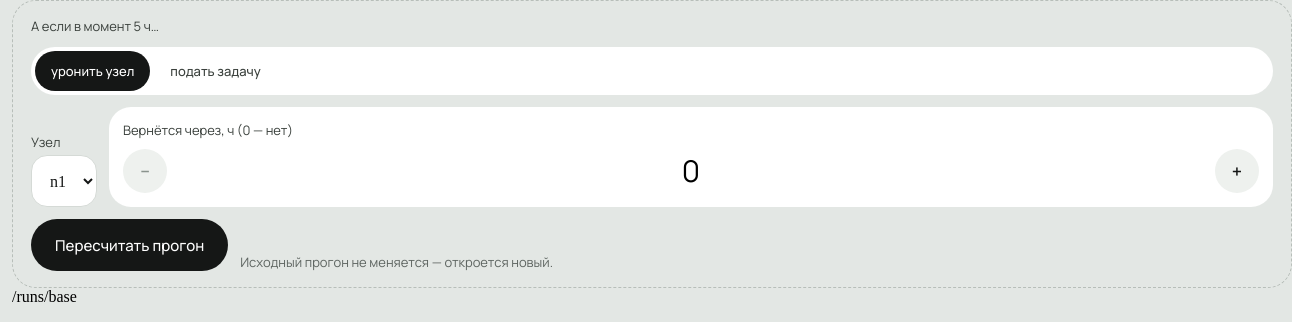
it: RunEvents › drops a node at the moment and brings it back in a second run
Check: the text "А если в момент 5 ч…" is shown, box [31, 17, 159, 35]
Select "n2" in the dropdown at (64, 181), box [31, 155, 97, 207]
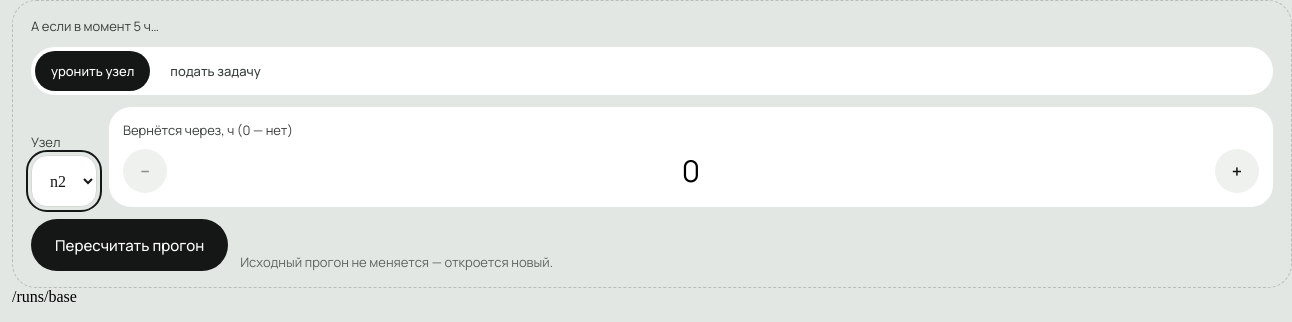
Click the button named "Позже" at (1237, 171), box [1215, 149, 1259, 193]
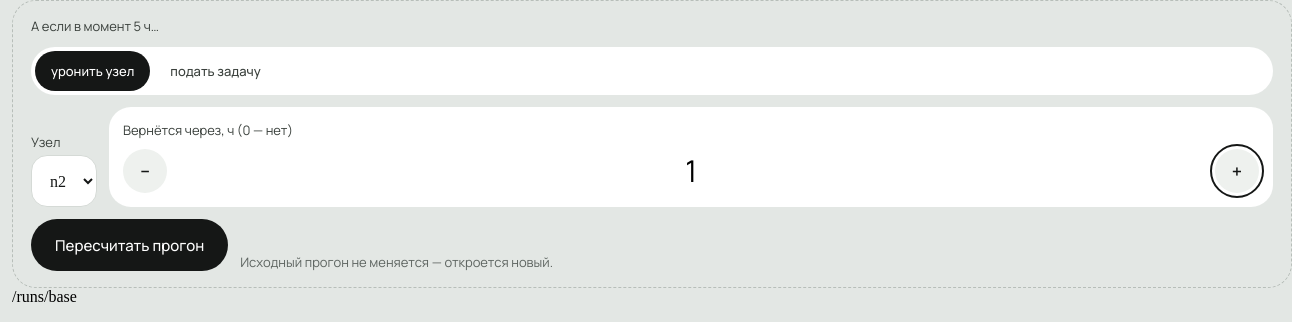
Click the button named "Позже" at (1237, 171), box [1215, 149, 1259, 193]
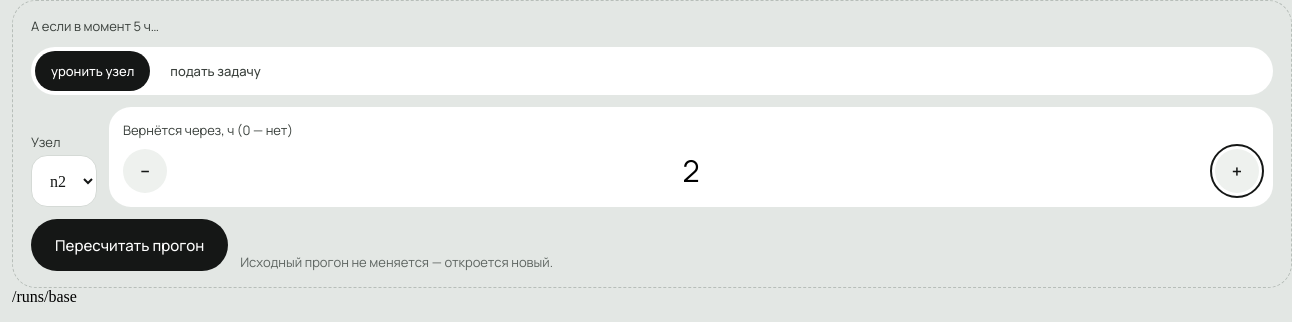
Click the button "Пересчитать прогон" at (130, 245), box [31, 219, 228, 271]
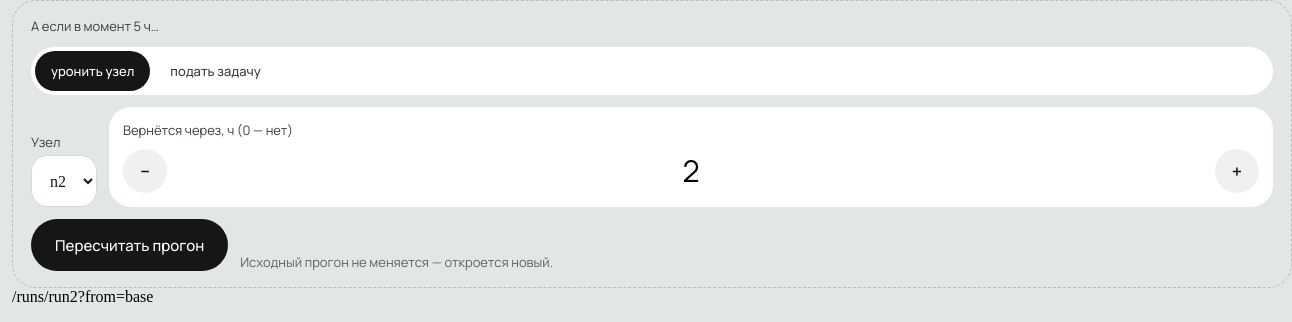
Check: the text "/runs/run2?from=base" is shown, box [12, 288, 153, 305]
